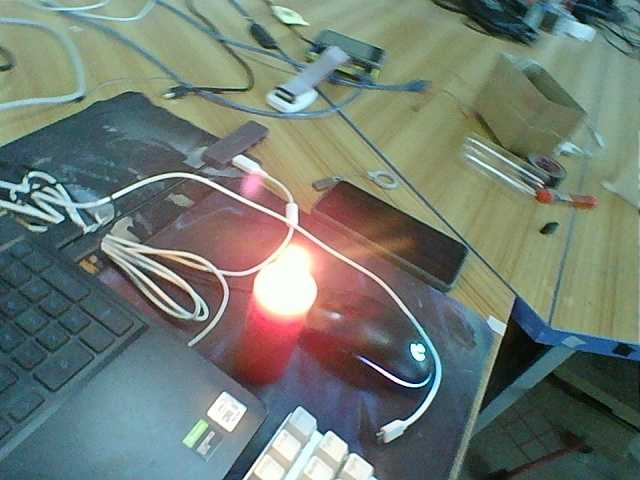candle: (227, 268, 325, 387)
fire: (259, 237, 325, 321)
